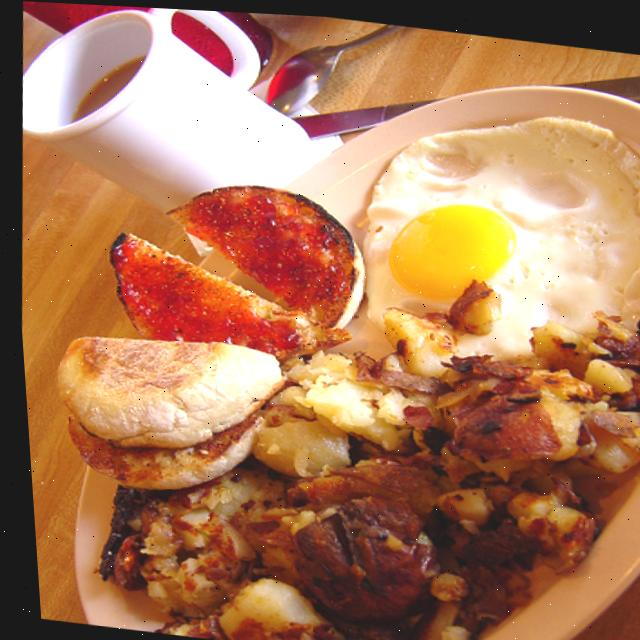鸡蛋料理: (311, 87, 640, 376)
